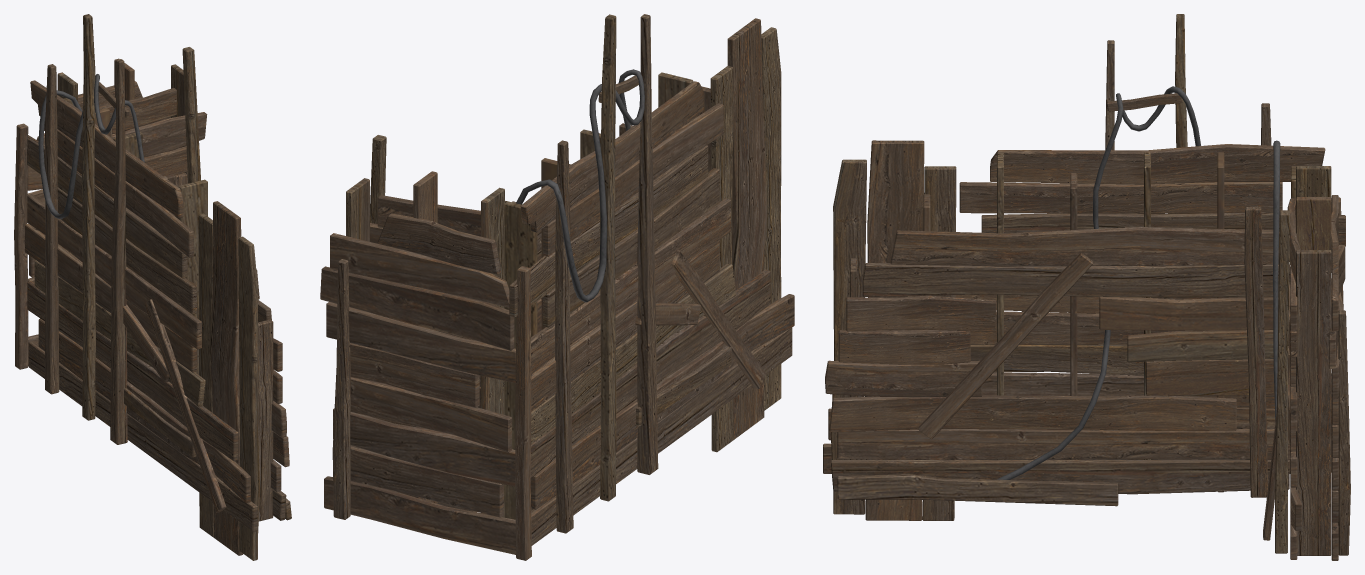
The model's file is MazeWall01.fbx.
The picture shows the model from 3 angles, left to right: view 1: azimuth 30°, elevation 25°; view 2: azimuth 150°, elevation 25°; view 3: azimuth 270°, elevation 25°; orthographic projection. The views are drawn at different scales.
Parts seen in each view (by area): view 1: SM_FAR_MazeWall_01.mo; view 2: SM_FAR_MazeWall_01.mo; view 3: SM_FAR_MazeWall_01.mo.
Boxes of the visible parts, x1,y1,x2,y2 form: SM_FAR_MazeWall_01.mo: [14, 14, 291, 560]; SM_FAR_MazeWall_01.mo: [320, 14, 794, 560]; SM_FAR_MazeWall_01.mo: [823, 14, 1350, 560].
Size of the model in its own units: 214 by 489 by 471.
